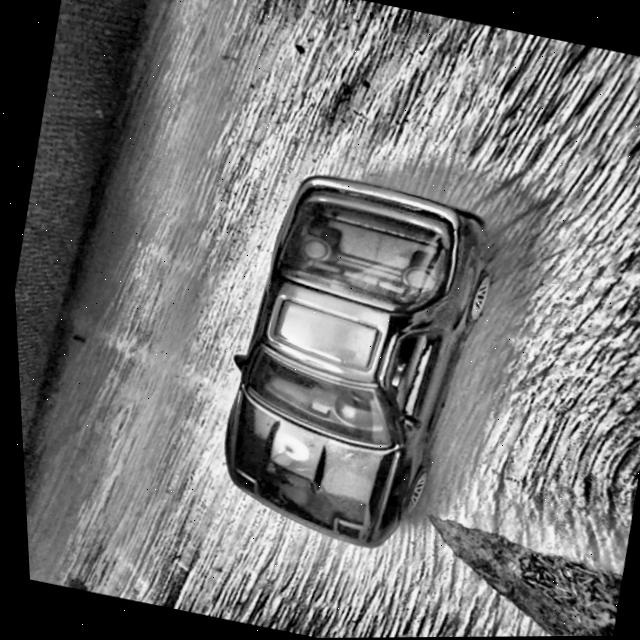car: (186, 159, 513, 565)
